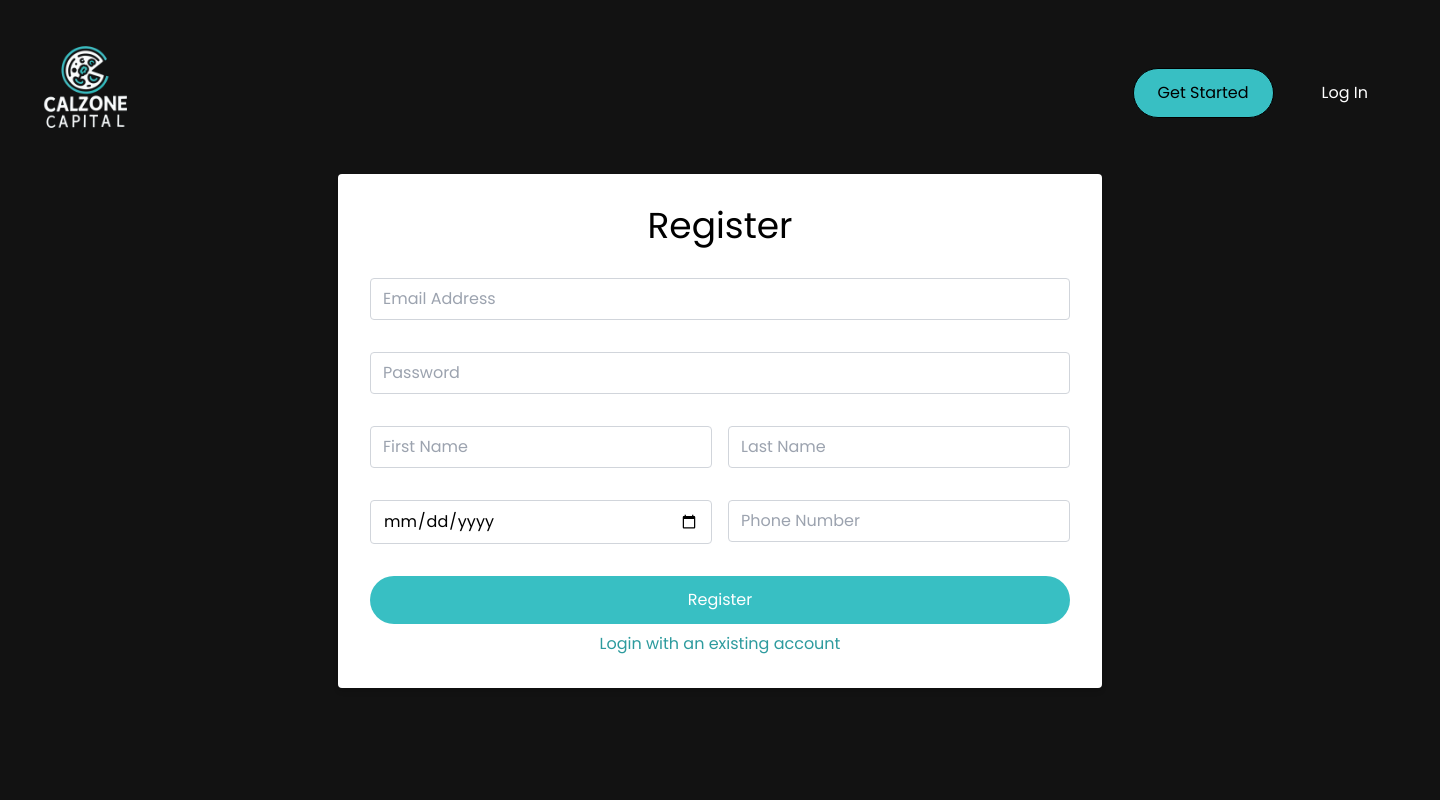
Scenario: Registration Form Tests › requires all fields to be filled
Click the button "Register".
click(720, 600)  # box top-left (370, 576), bottom-right (1070, 624)
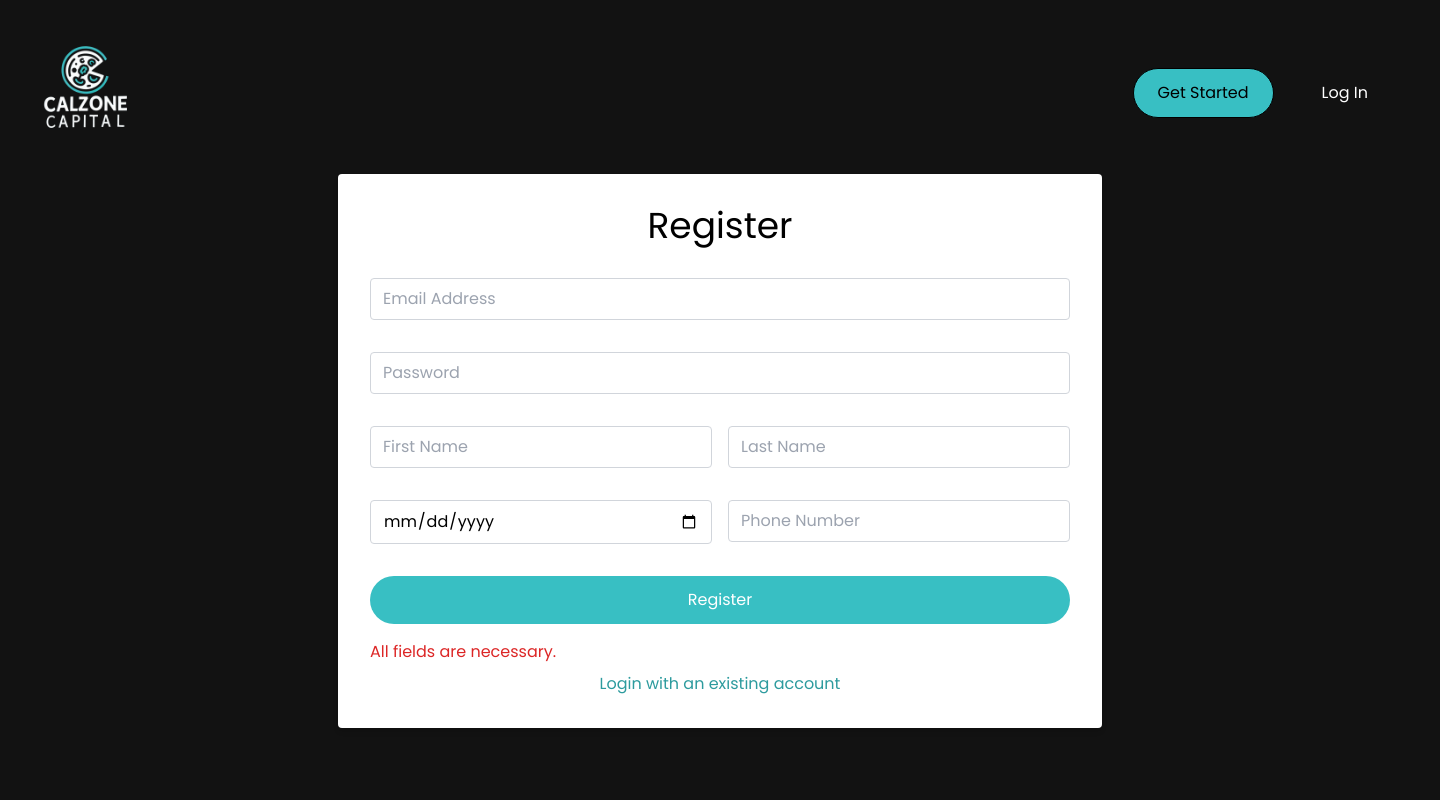
Now the text "All fields are necessary." is shown, box top-left (370, 640), bottom-right (556, 663)
